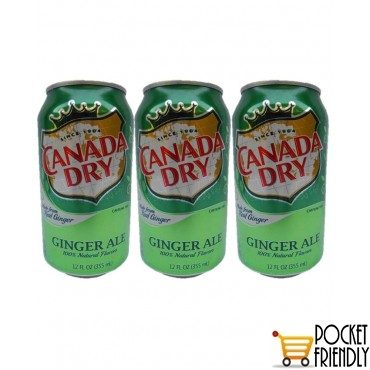Lata: (231, 73, 332, 285)
